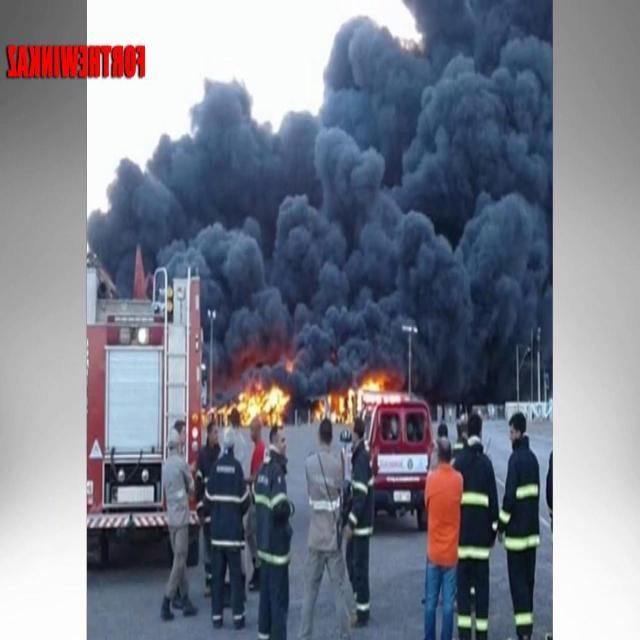Fire: (332, 382, 392, 406), (228, 391, 282, 413)
Smoke: (180, 142, 560, 359)
